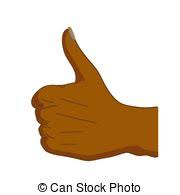thumbs_up: (26, 17, 166, 164)
